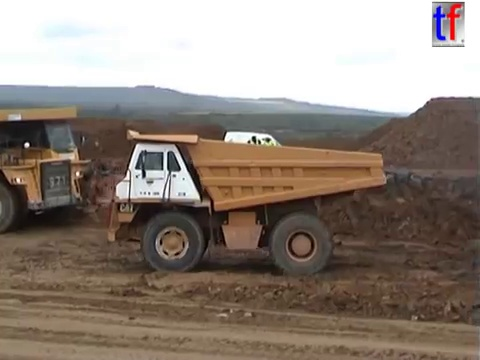truck: (101, 126, 389, 277), (1, 102, 93, 236)
worker: (246, 133, 263, 167), (259, 133, 276, 167)
